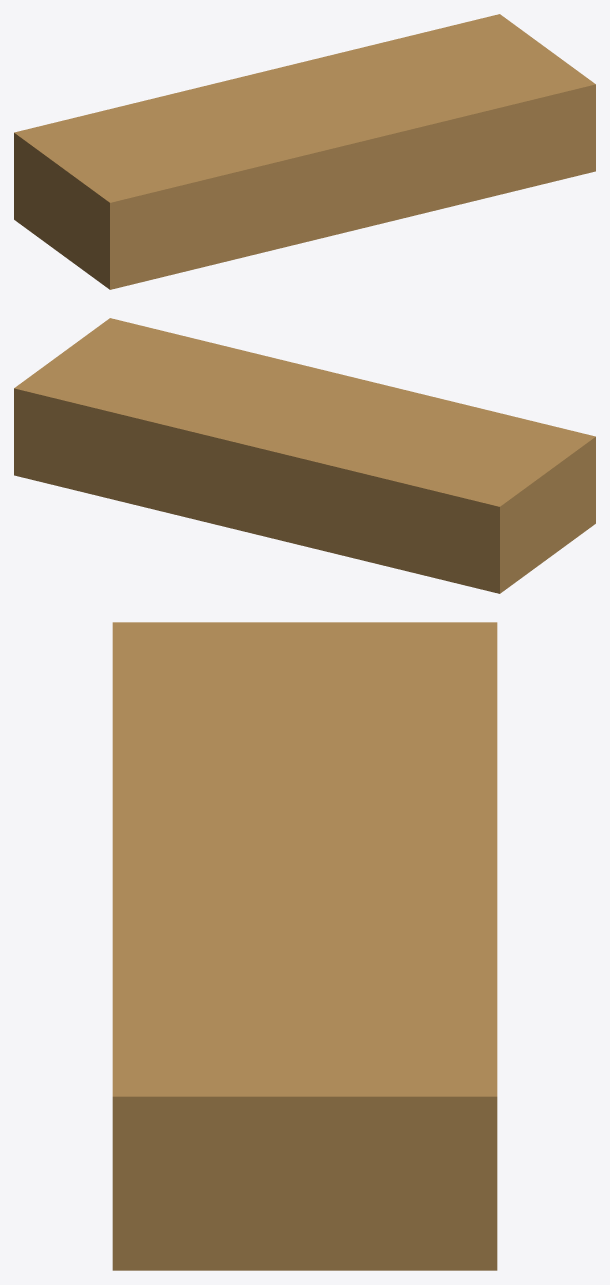
The picture shows the model from 3 angles, top to bottom: view 1: azimuth 30°, elevation 25°; view 2: azimuth 150°, elevation 25°; view 3: azimuth 270°, elevation 25°; orthographic projection. The views are drawn at different scales.
Visible parts, largest first — view 1: RUN-000-S02-NOG-02; view 2: RUN-000-S02-NOG-02; view 3: RUN-000-S02-NOG-02.
Boxes of the visible parts, x1=… form: RUN-000-S02-NOG-02: x1=14, y1=14, x2=595, y2=289; RUN-000-S02-NOG-02: x1=14, y1=318, x2=595, y2=593; RUN-000-S02-NOG-02: x1=112, y1=622, x2=497, y2=1270.
Size of the model in its own units: 0.2628 by 0.045 by 0.09.
